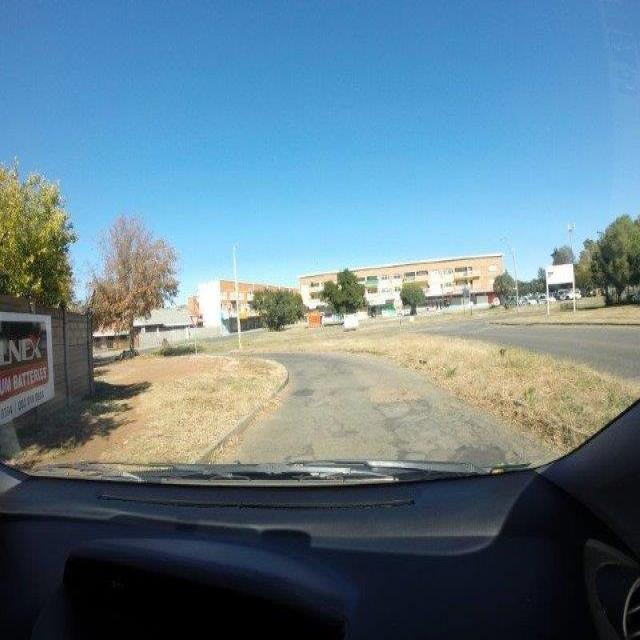jalan retak: (372, 408, 422, 459)
lubang: (449, 438, 518, 464), (369, 387, 424, 401), (292, 384, 320, 401)
